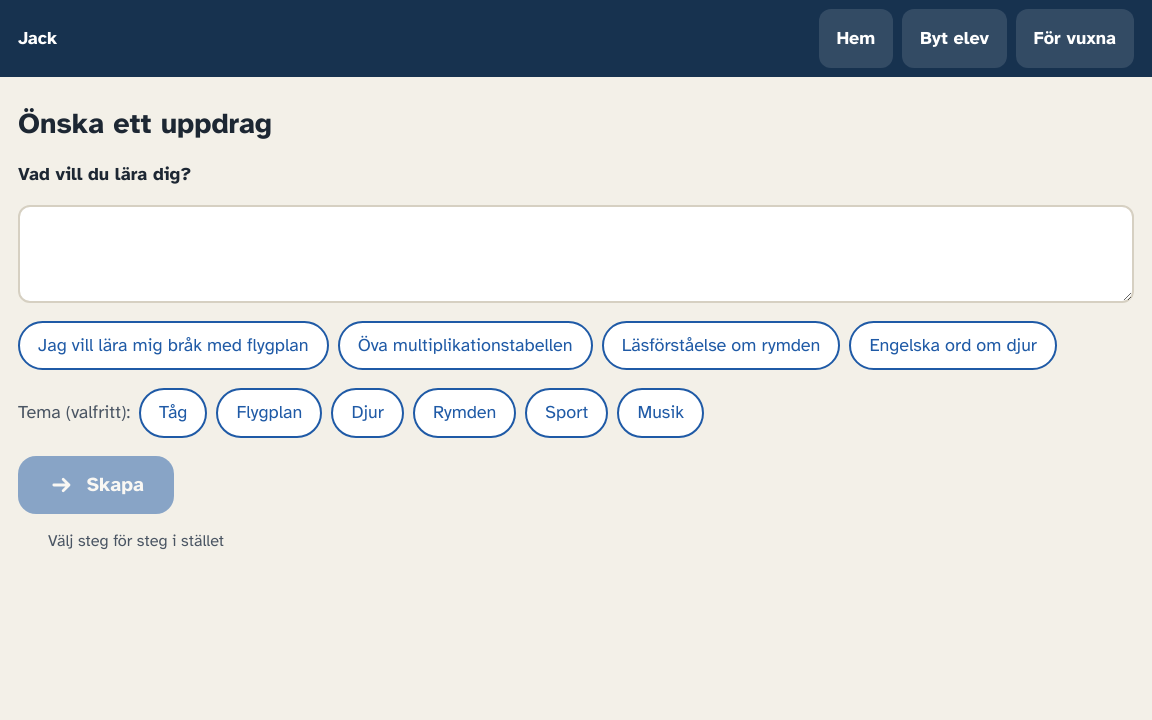
Test case: free requests (middle, upper) › middle: a suggestion chip fills the text, with an optional theme
What coordinates should you click on to do the following:
click the button "Jag vill lära mig bråk med flygplan"
I would click on:
 (173, 345)
Its box is left=18, top=321, right=329, bottom=370.
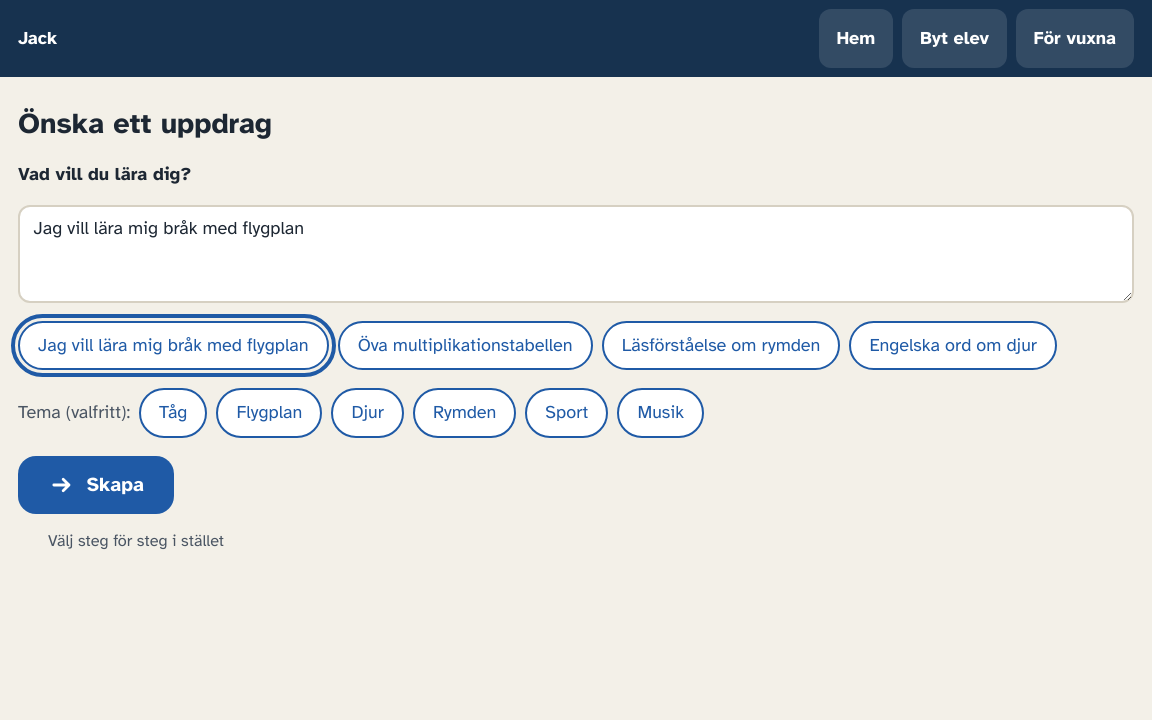
expect the text box labelled "Vad vill du lära dig?" holds "Jag vill lära mig bråk med flygplan": met, box left=18, top=205, right=1134, bottom=303
What coordinates should you click on to do the following:
click the button "Djur"
I would click on:
 (368, 413)
Its box is left=331, top=388, right=404, bottom=438.
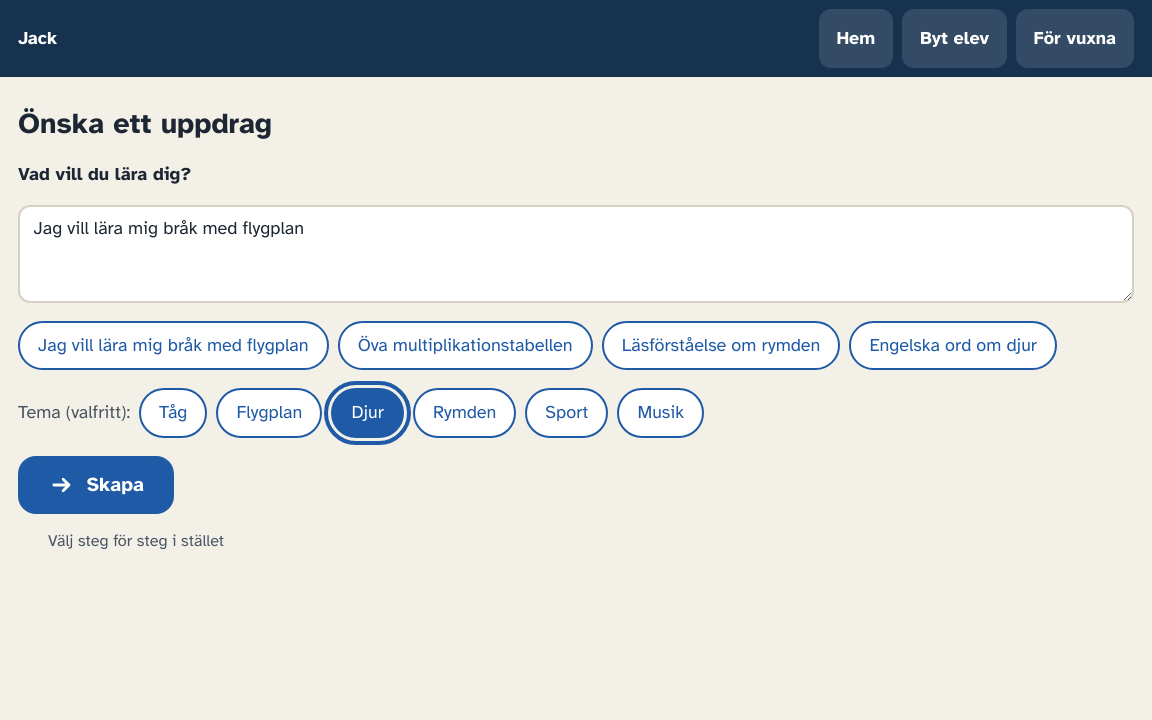
What coordinates should you click on to do the following:
click the button "Skapa"
I would click on:
 (96, 485)
Its box is left=18, top=456, right=174, bottom=514.
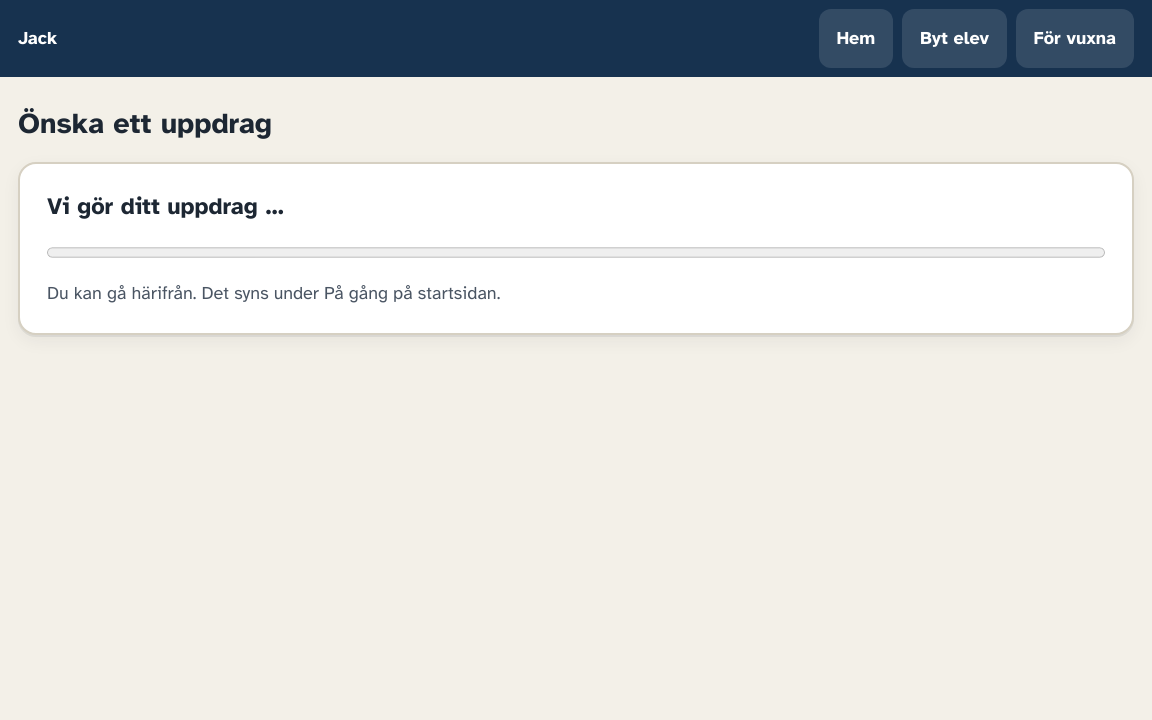
expect the text "Vi gör ditt uppdrag …" is shown: met, box left=47, top=192, right=284, bottom=221
